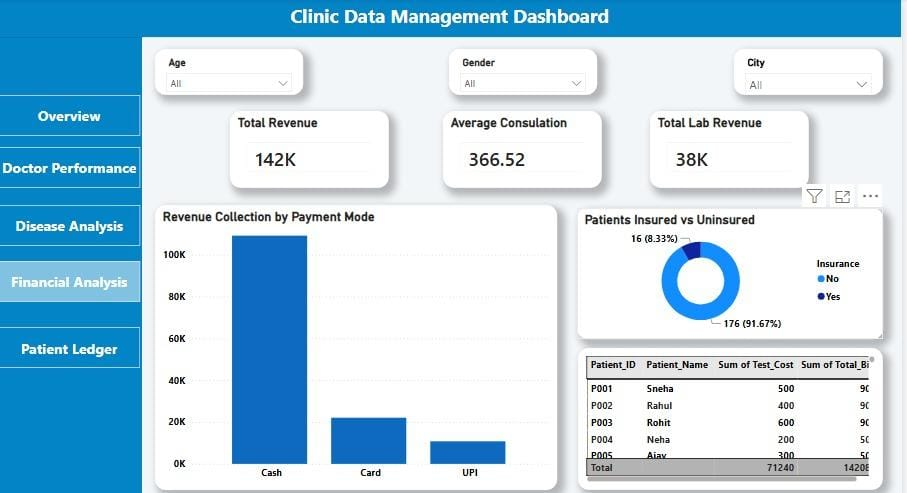

The dashboard page shown, as its layout file describes it:
{"tool":"powerbi","page":{"name":"Financial Analysis","canvas":[1280,720],"ordinal":3},"visuals":[{"type":"textbox","box":[0,0,1280,53.8],"z":0},{"type":"shape","box":[0,53.3,204.5,666.7],"z":1000},{"type":"slicer","fields":{"Values":["Clinic_Management_Data(Cleaned_Data) (2).Age"]},"box":[223.2,70.6,210.2,64.8],"z":2000},{"type":"slicer","fields":{"Values":["Clinic_Management_Data(Cleaned_Data) (2).Gender"]},"box":[639.2,70.9,209.8,65.2],"z":3000},{"type":"slicer","fields":{"Values":["Clinic_Management_Data(Cleaned_Data) (2).City"]},"box":[1043.1,70.9,211.2,65.2],"z":4000},{"type":"cardVisual","title":"Total Revenue","fields":{"Data":["Sum(Clinic_Management_Data(Cleaned_Data) (2).Total_Bill)"]},"box":[328.8,158.7,225.4,109.1],"z":5000},{"type":"cardVisual","title":"Average Consulation ","fields":{"Data":["Avg(Clinic_Management_Data(Cleaned_Data) (2).Consultation_Fee)"]},"box":[630.7,158.7,225.4,109.1],"z":6000},{"type":"cardVisual","title":"Total Lab Revenue","fields":{"Data":["Sum(Clinic_Management_Data(Cleaned_Data) (2).Test_Cost)"]},"box":[924.1,158.7,225.4,109.1],"z":7000},{"type":"actionButton","box":[0,135.4,201.6,57.6],"z":8000},{"type":"actionButton","box":[0,210.2,201.6,57.6],"z":9000},{"type":"actionButton","box":[0,292.3,201.6,57.6],"z":10000},{"type":"actionButton","box":[0,371.5,201.6,57.6],"z":11000},{"type":"columnChart","title":"Revenue Collection by Payment Mode","fields":{"Category":["Clinic_Management_Data(Cleaned_Data) (2).Payment_Mode"],"Y":["Sum(Clinic_Management_Data(Cleaned_Data) (2).Total_Bill)"]},"box":[222.5,292,569.8,403.9],"z":12000},{"type":"donutChart","title":"Patients Insured vs Uninsured","fields":{"Y":["CountNonNull(Clinic_Management_Data(Cleaned_Data) (2).Patient_ID)"],"Category":["Clinic_Management_Data(Cleaned_Data) (2).Insurance"]},"box":[820.6,296.2,433.7,185.7],"z":13000},{"type":"tableEx","fields":{"Values":["Clinic_Management_Data(Cleaned_Data) (2).Patient_ID","Clinic_Management_Data(Cleaned_Data) (2).Patient_Name","Sum(Clinic_Management_Data(Cleaned_Data) (2).Test_Cost)","Sum(Clinic_Management_Data(Cleaned_Data) (2).Total_Bill)"]},"box":[822,494.6,432.3,201.3],"z":14000},{"type":"actionButton","box":[0,464.9,201.3,58.1],"z":15000}]}

Visuals, with their boxes on the page's 1280x720 design canvas (x1, y1, x2, y2). These are canvas units, not pixel positions in the 907x493 screenshot, which may show the page scaled, cropped or inside an application window:
textbox: {"left": 0, "top": 0, "right": 1280, "bottom": 54}
shape: {"left": 0, "top": 53, "right": 204, "bottom": 720}
slicer - Clinic_Management_Data(Cleaned_Data) (2).Age: {"left": 223, "top": 71, "right": 433, "bottom": 135}
slicer - Clinic_Management_Data(Cleaned_Data) (2).Gender: {"left": 639, "top": 71, "right": 849, "bottom": 136}
slicer - Clinic_Management_Data(Cleaned_Data) (2).City: {"left": 1043, "top": 71, "right": 1254, "bottom": 136}
"Total Revenue" cardVisual: {"left": 329, "top": 159, "right": 554, "bottom": 268}
"Average Consulation " cardVisual: {"left": 631, "top": 159, "right": 856, "bottom": 268}
"Total Lab Revenue" cardVisual: {"left": 924, "top": 159, "right": 1150, "bottom": 268}
actionButton: {"left": 0, "top": 135, "right": 202, "bottom": 193}
actionButton: {"left": 0, "top": 210, "right": 202, "bottom": 268}
actionButton: {"left": 0, "top": 292, "right": 202, "bottom": 350}
actionButton: {"left": 0, "top": 372, "right": 202, "bottom": 429}
"Revenue Collection by Payment Mode" columnChart: {"left": 222, "top": 292, "right": 792, "bottom": 696}
"Patients Insured vs Uninsured" donutChart: {"left": 821, "top": 296, "right": 1254, "bottom": 482}
tableEx - Clinic_Management_Data(Cleaned_Data) (2).Patient_ID x Clinic_Management_Data(Cleaned_Data) (2).Patient_Name: {"left": 822, "top": 495, "right": 1254, "bottom": 696}
actionButton: {"left": 0, "top": 465, "right": 201, "bottom": 523}
